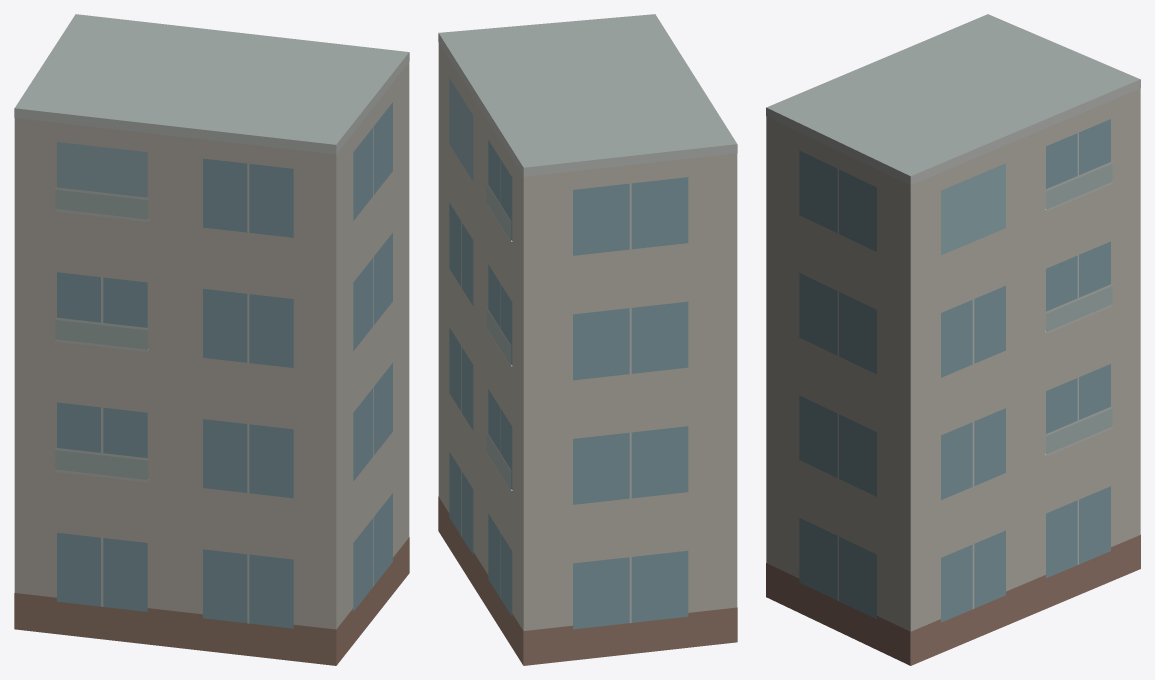
File: survey-upis-32784447.glb
The picture shows the model from 3 angles, left to right: view 1: azimuth 30°, elevation 25°; view 2: azimuth 150°, elevation 25°; view 3: azimuth 270°, elevation 25°; orthographic projection. The views are drawn at different scales.
Parts seen in each view (by area): view 1: survey-upis-32784447.tmp; view 2: survey-upis-32784447.tmp; view 3: survey-upis-32784447.tmp.
Part boxes in pixels (<box>): survey-upis-32784447.tmp: <box>14,14,409,665</box>; survey-upis-32784447.tmp: <box>438,14,737,665</box>; survey-upis-32784447.tmp: <box>766,14,1140,665</box>.
Bounding box in the file's own units: 9.42 × 13.25 × 9.19.
